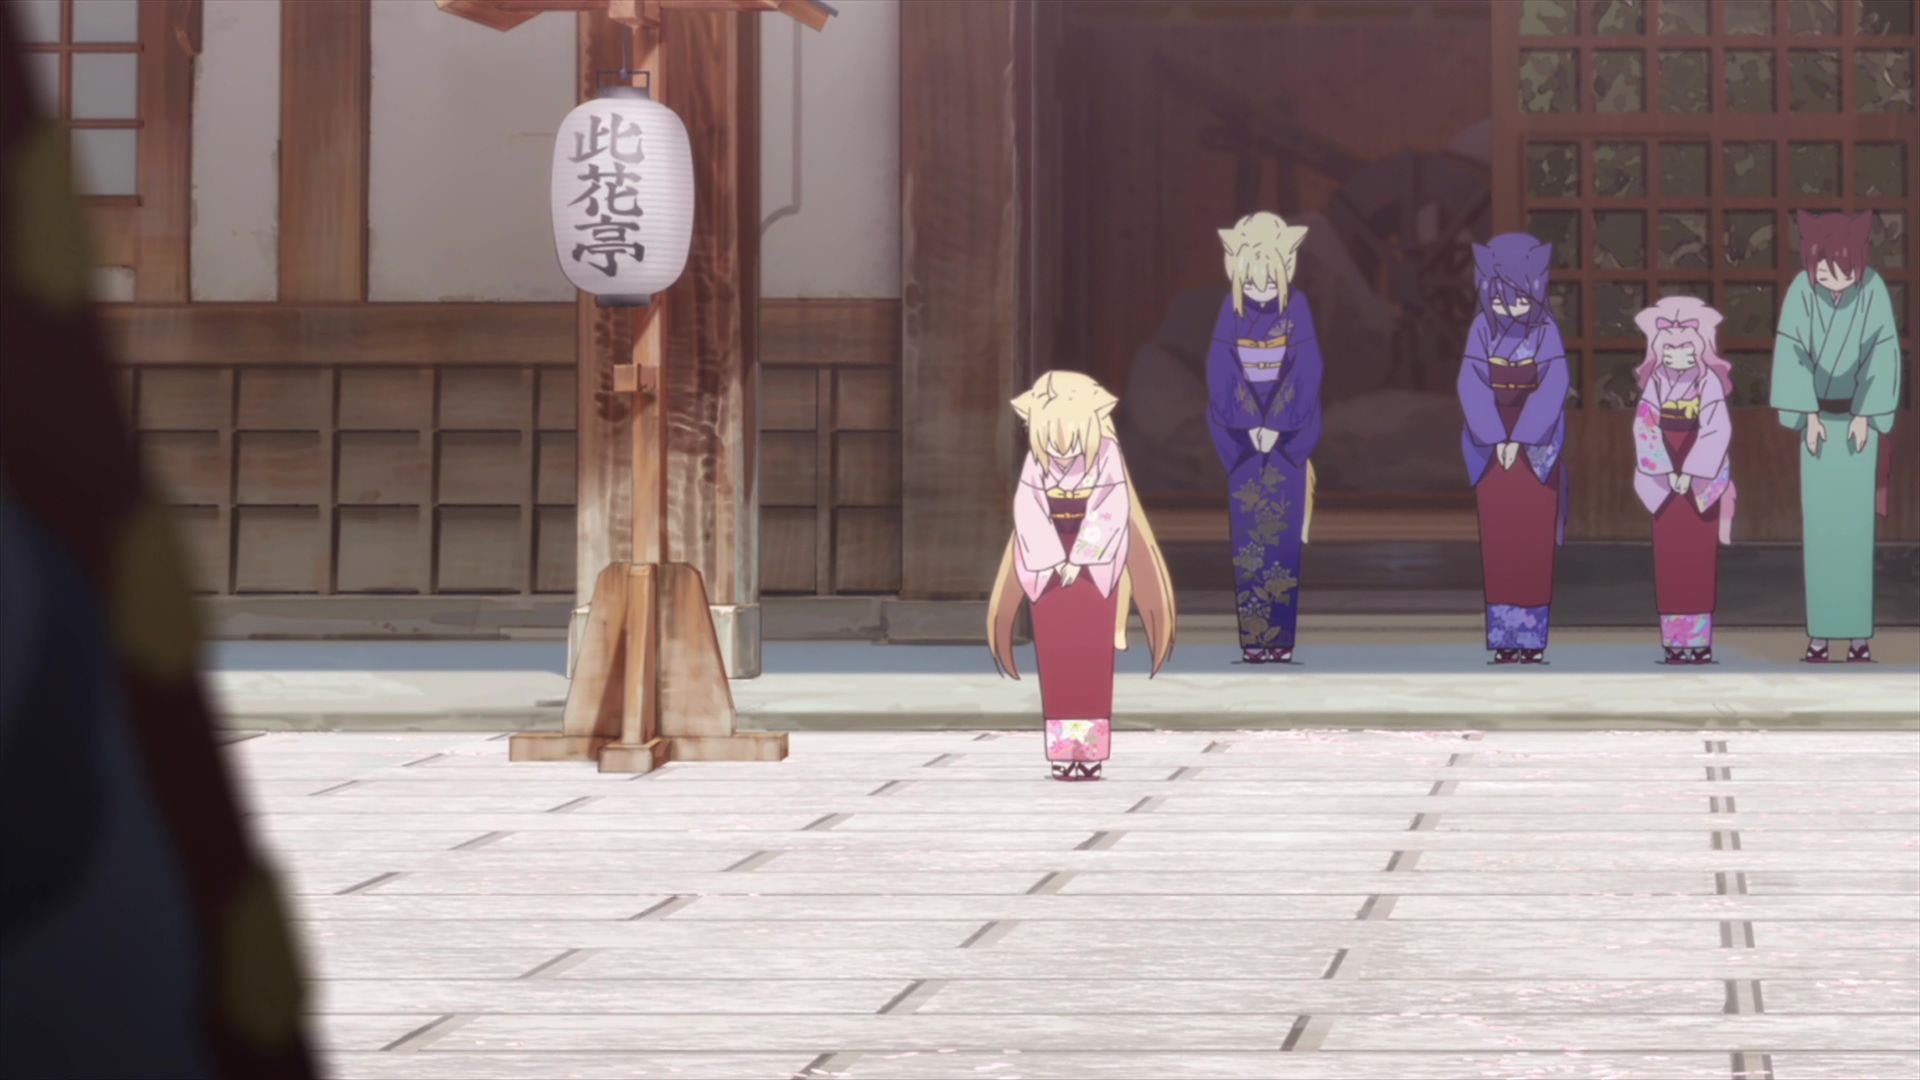枣: (1766, 208, 1902, 665)
柚: (985, 371, 1178, 782)
桐: (1207, 211, 1321, 665)
皋: (1455, 229, 1571, 665)
莲: (1629, 294, 1738, 663)
